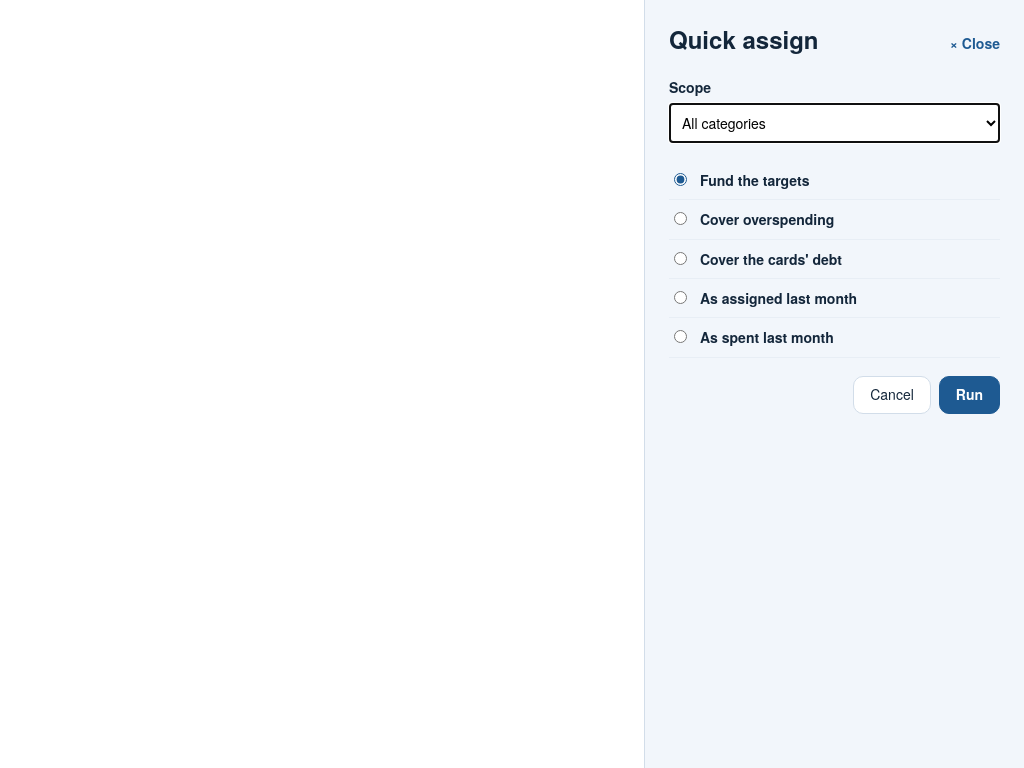
Test: QuickAssignPanel (#55) › shows an error when the action fails
This screenshot has width=1024, height=768.
Click the button "Run": point(969, 395) left=939, top=376, right=1000, bottom=414
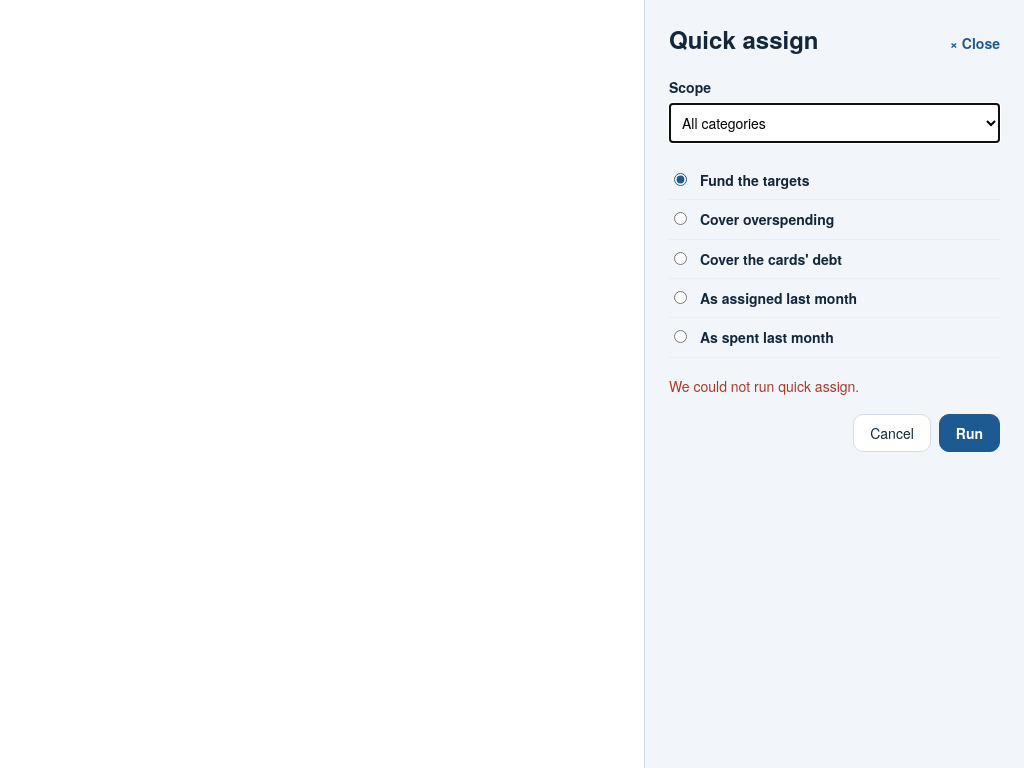
Expected: the message reads "We could not run quick assign.", left=669, top=376, right=859, bottom=396
